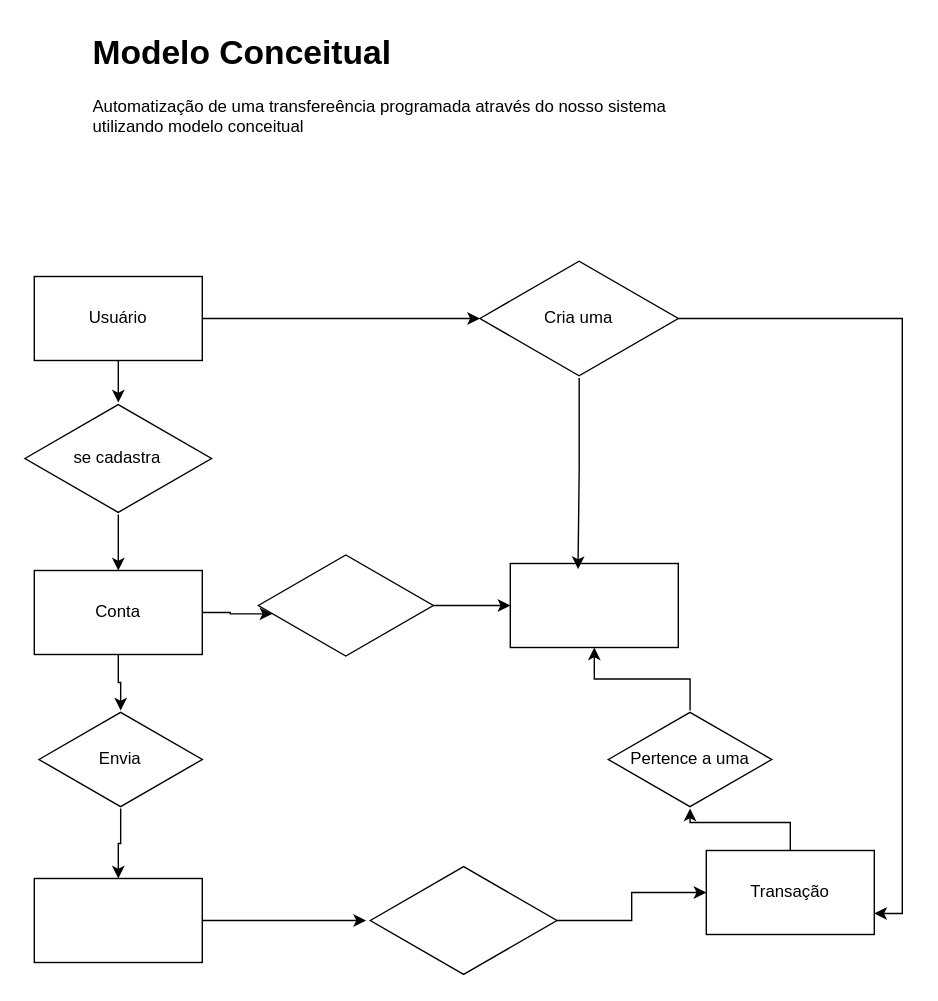
Image size: 938x1001. Some labels were removed from this diagram. Here are the shapes that lost their labels. From the top down, the centre of each, then its label:
At (345,605): "Armazena".
At (593,605): "Categoria".
At (117,919): "Nodificação".
At (463,919): "Nodifica uma".
